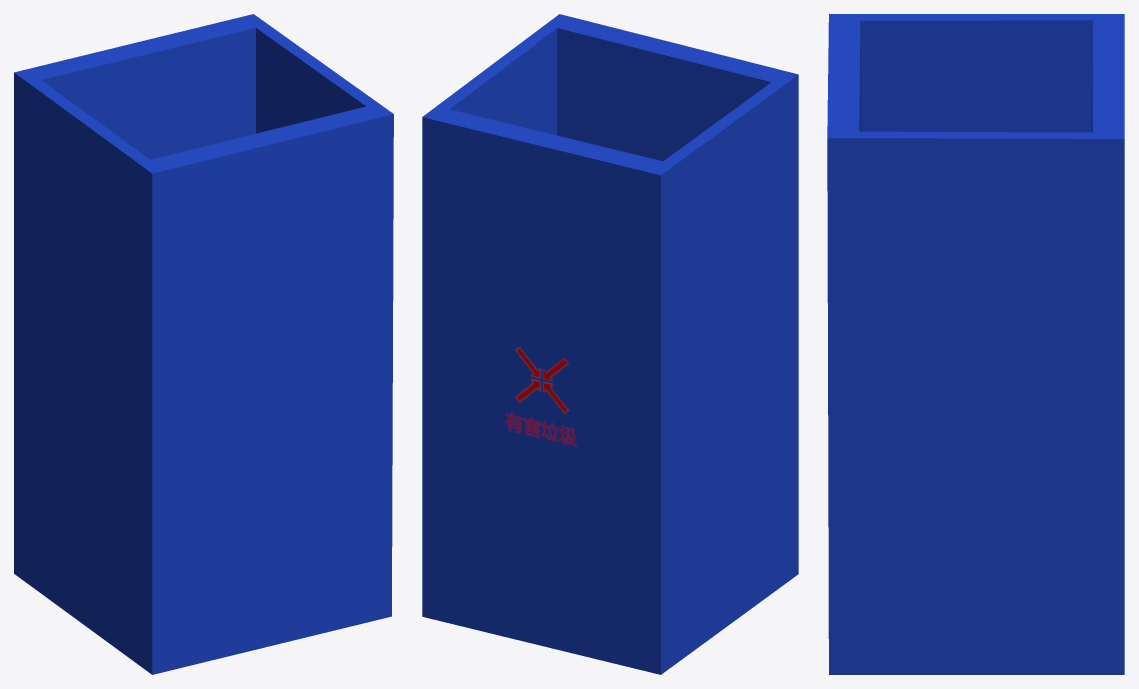
The model's file is rubbish_bin.dae.
The picture shows the model from 3 angles, left to right: view 1: azimuth 30°, elevation 25°; view 2: azimuth 150°, elevation 25°; view 3: azimuth 270°, elevation 25°; orthographic projection. The views are drawn at different scales.
Visible parts, largest first — view 1: 立方体; view 2: 立方体; view 3: 立方体.
Boxes of the visible parts, x1,y1,x2,y2 form: 立方体: (14, 14, 393, 674); 立方体: (422, 14, 798, 674); 立方体: (827, 14, 1124, 674).
Bounding box in the file's own units: 1.01 × 1.01 × 2.01.
Materials: 2 (1 with a texture image).
